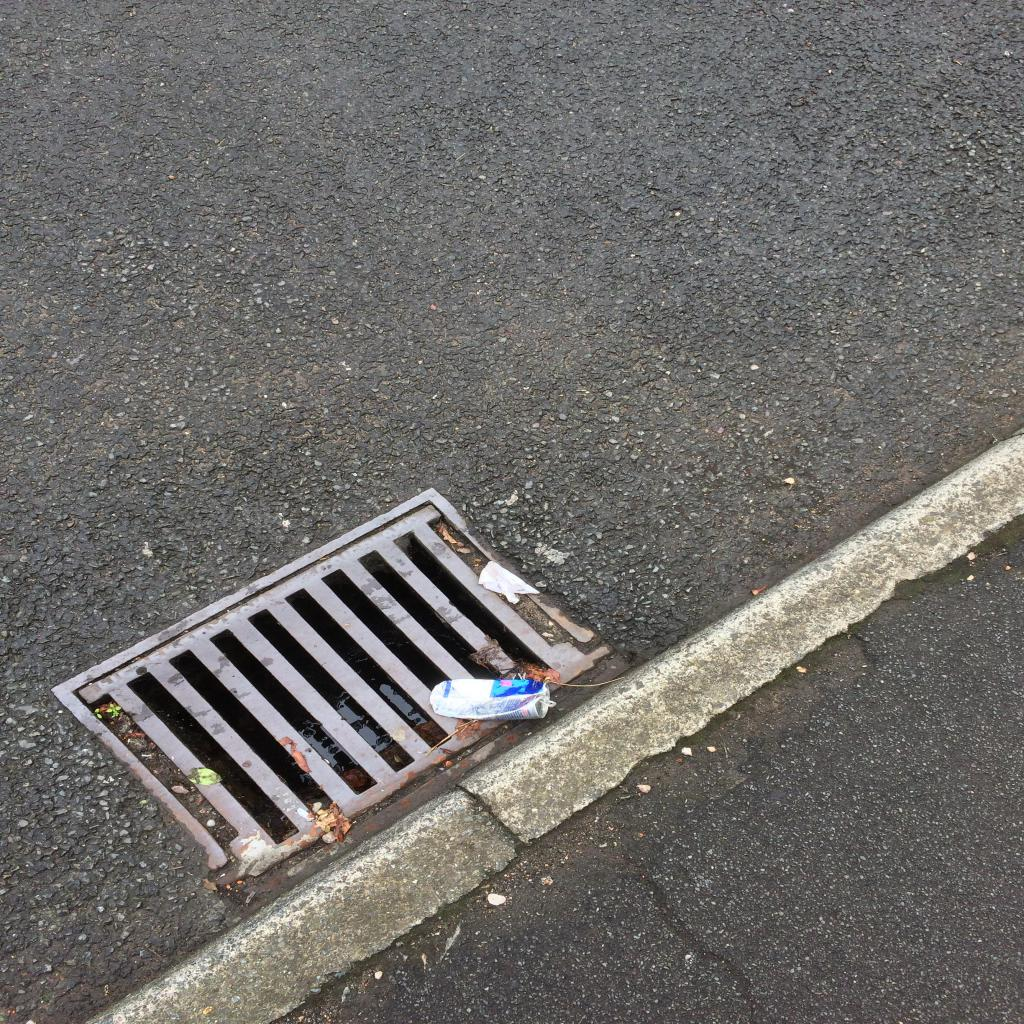Drink can: (430, 678, 556, 720)
Pop tab: (540, 698, 556, 707)
Unlabeled litter: (478, 562, 540, 604)
